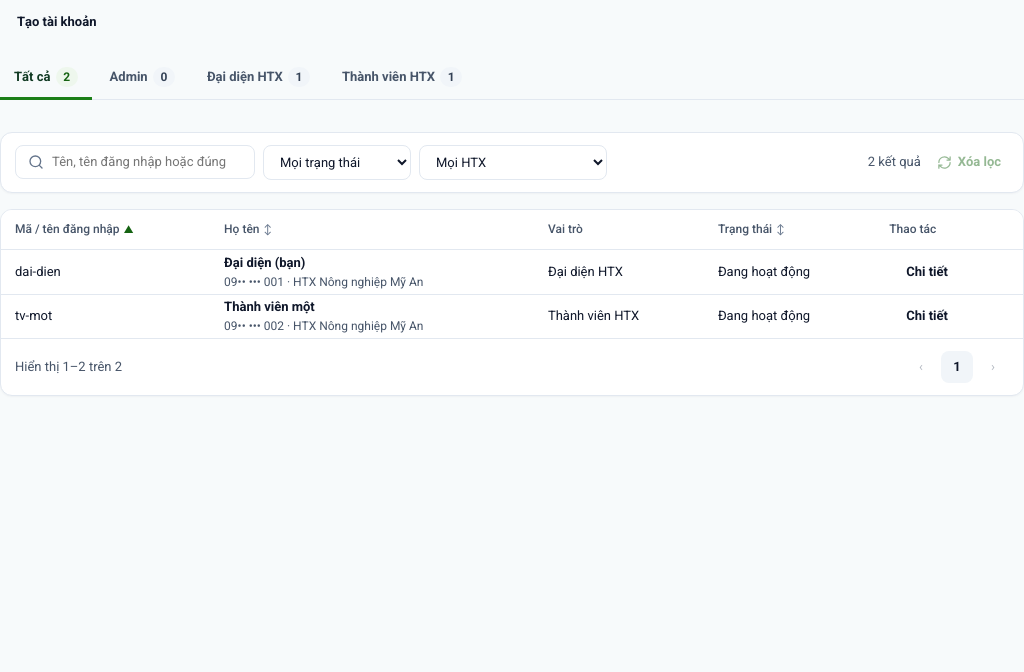
[AC-06, AC-N3] dòng của mình: không có nút khóa, chỉ sửa được ô Kiêm Thành viên HTX
Click the button "Đại diện (bạn)" at {"x": 265, "y": 263}, box [224,253,305,272]
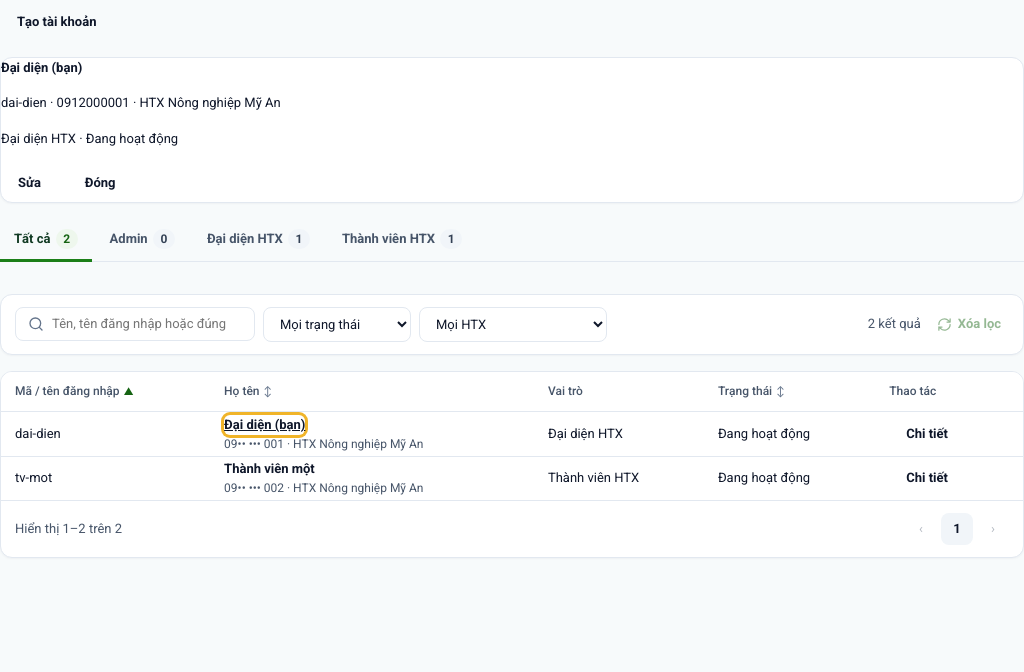
Click the button "Sửa" at {"x": 29, "y": 183}, box [1,164,58,202]
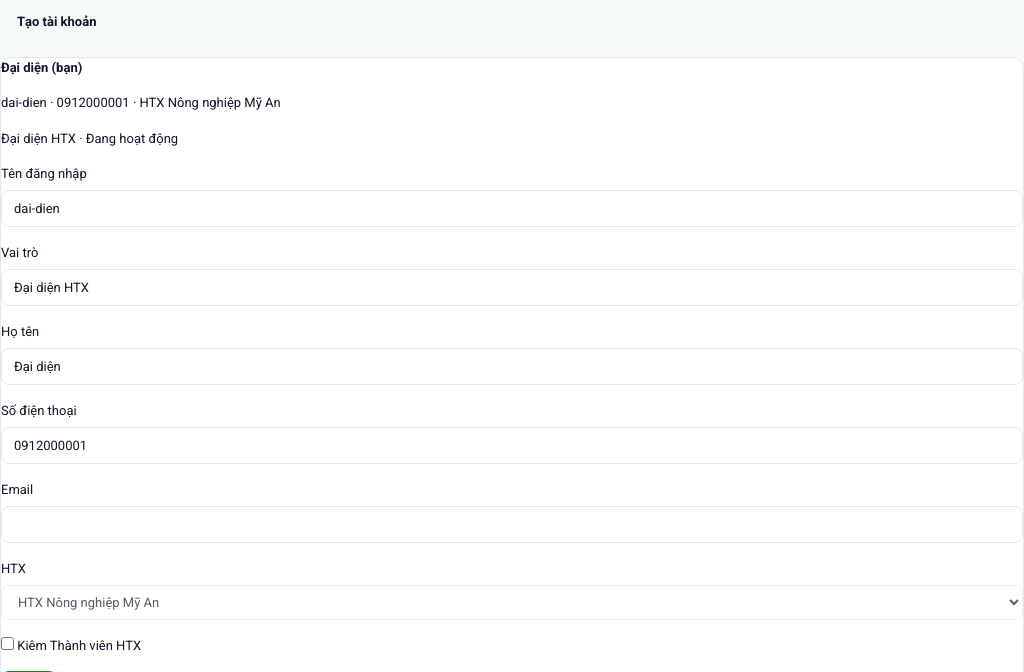
Result: the field labelled "Họ tên" is disabled at [1,348,1023,385]
Result: the field labelled "Số điện thoại" is disabled at [1,426,1023,464]
Result: the checkbox labelled "Kiêm Thành viên HTX" is enabled
Click the checkbox labelled "Kiêm Thành viên HTX" at {"x": 8, "y": 643}, box [1,636,14,650]
(page scrolled)
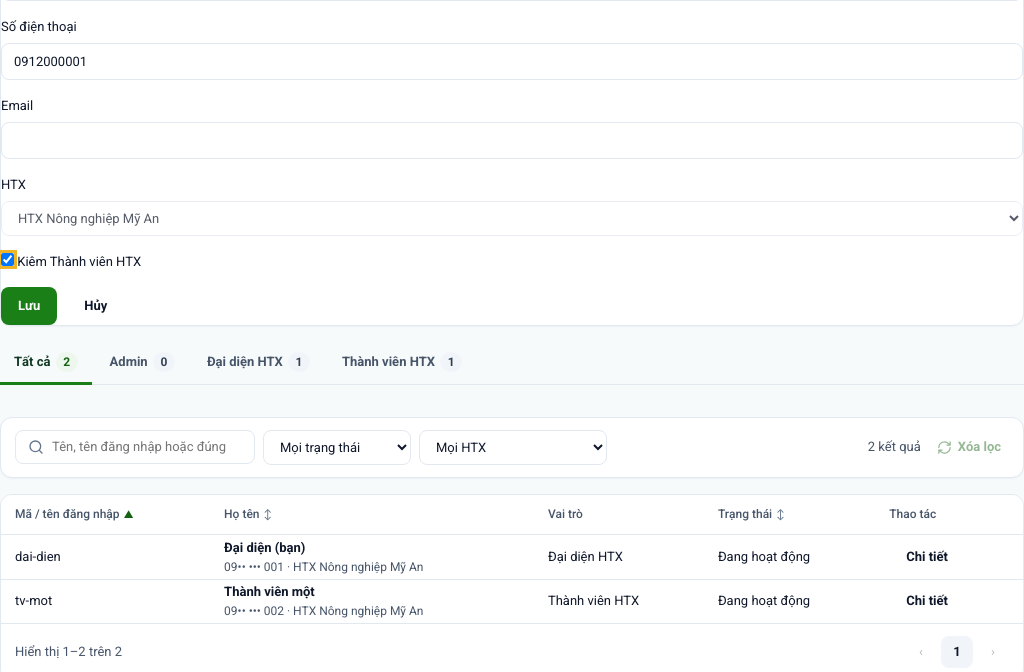
Click the button "Lưu" at {"x": 29, "y": 306}, box [1,287,57,324]
(page scrolled)
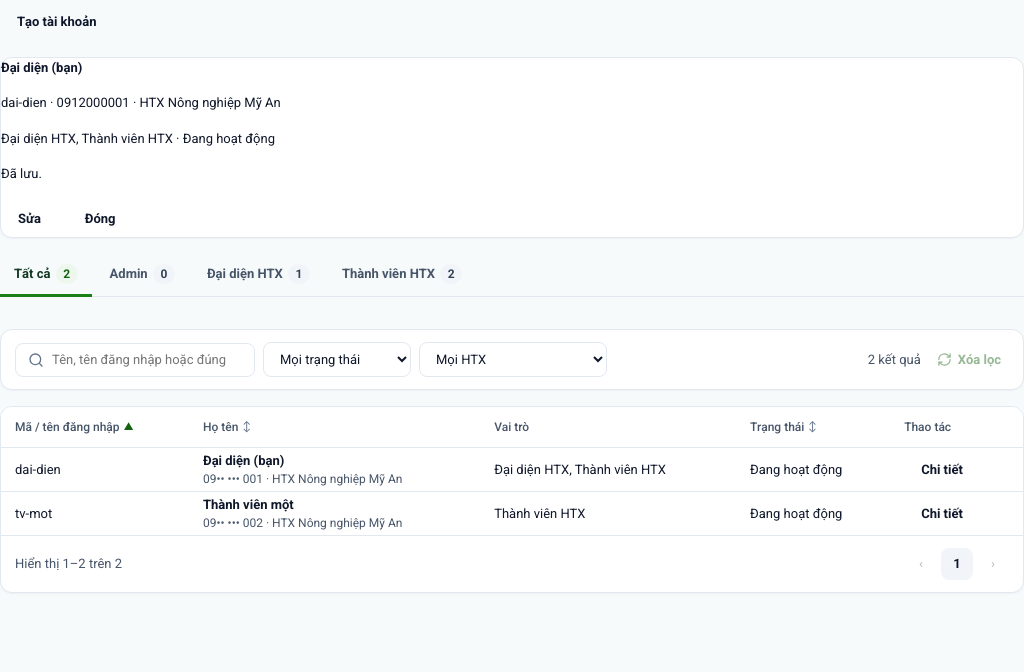
Result: the text "Đại diện HTX, Thành viên HTX · Đang hoạt động" is shown at [1,130,275,146]
